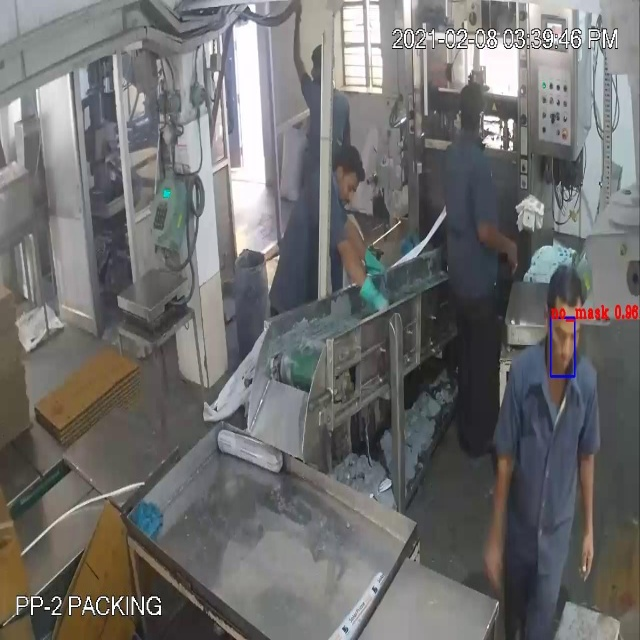Guantes: (342, 244, 394, 318)
Sin_guantes: (484, 418, 518, 598), (576, 424, 608, 593), (477, 212, 521, 285)
